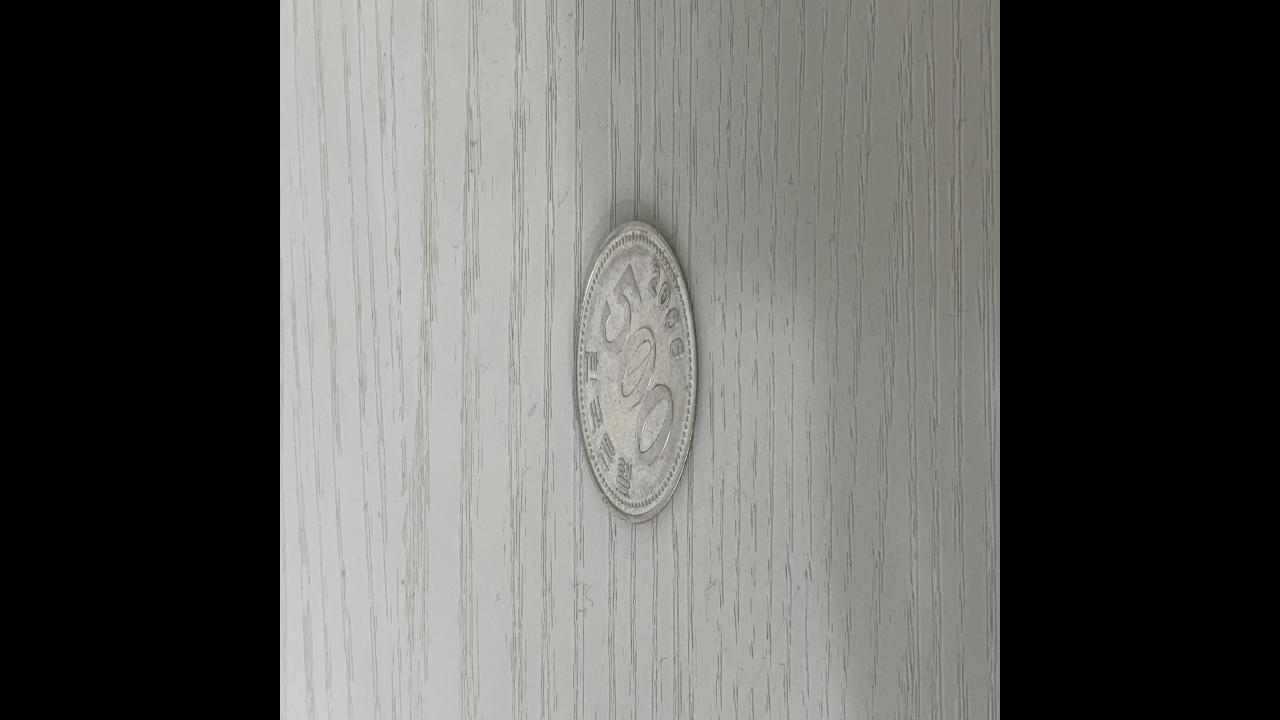coin: (574, 220, 696, 524)
